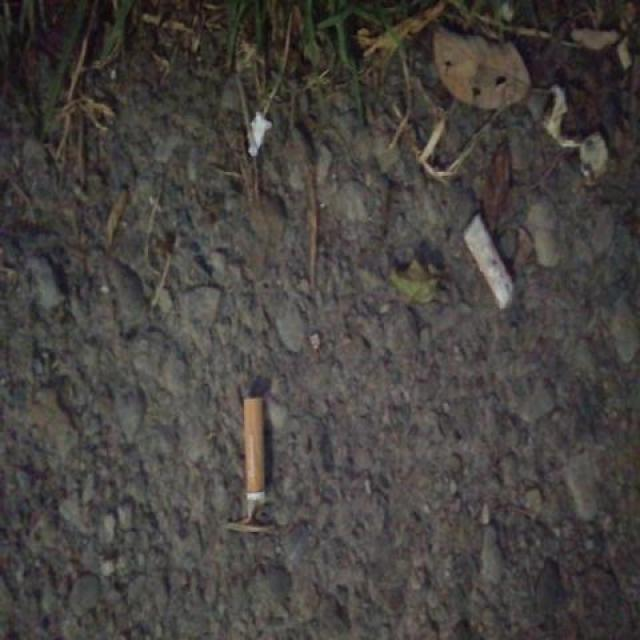non-organic waste: (460, 209, 523, 318), (239, 392, 270, 528)
